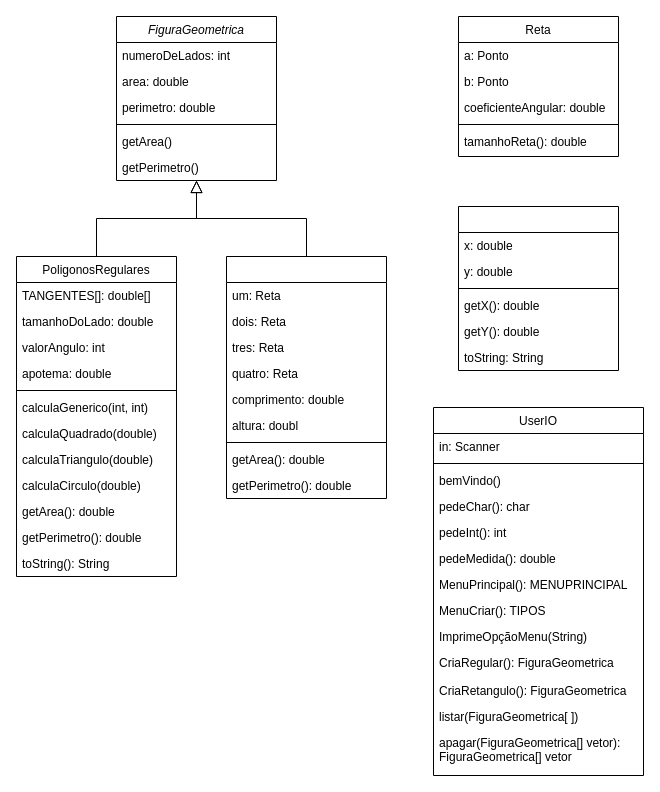
Image size: 660x792. Some labels were removed from this diagram. Each missing label, with the box of its shape:
Ponto: (458, 206, 618, 370)
Quadrilatero: (226, 256, 386, 498)
